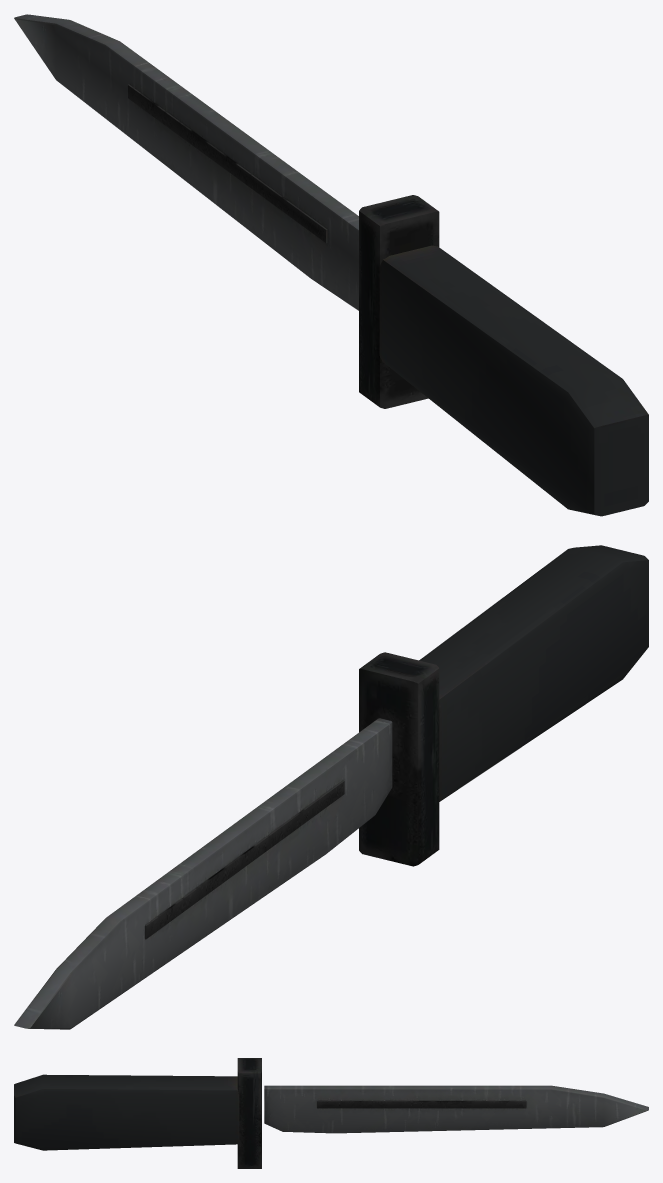
File: knife_bayonet.glb
The picture shows the model from 3 angles, top to bottom: view 1: azimuth 30°, elevation 25°; view 2: azimuth 150°, elevation 25°; view 3: azimuth 270°, elevation 25°; orthographic projection. The views are drawn at different scales.
Parts seen in each view (by area): view 1: body_furniture, body_receiver; view 2: body_receiver, body_furniture; view 3: body_receiver, body_furniture.
Part boxes in pixels (bbox=[...]): body_furniture: bbox=[379, 245, 648, 516]; body_receiver: bbox=[14, 14, 439, 408]; body_receiver: bbox=[14, 652, 439, 1029]; body_furniture: bbox=[419, 545, 648, 801]; body_receiver: bbox=[237, 1058, 648, 1168]; body_furniture: bbox=[14, 1074, 239, 1150].
Size of the model in its own units: 0.022 by 0.062 by 0.366.
Materials: 2 (2 with a texture image).
